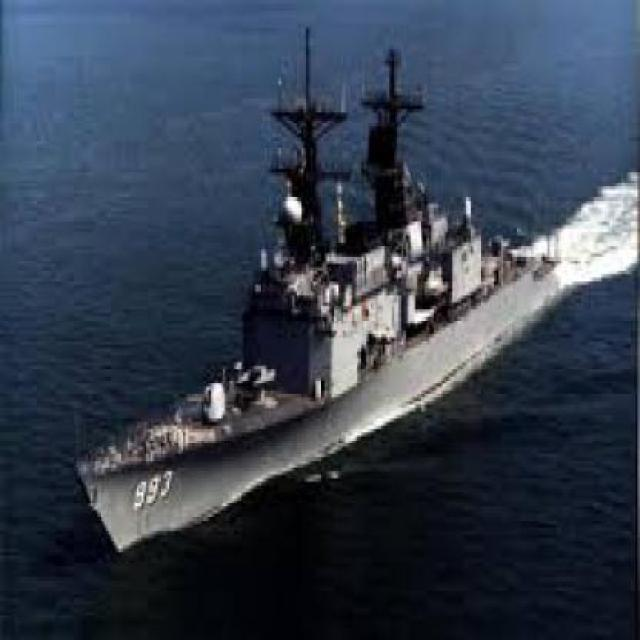warship2: (69, 22, 581, 588)
